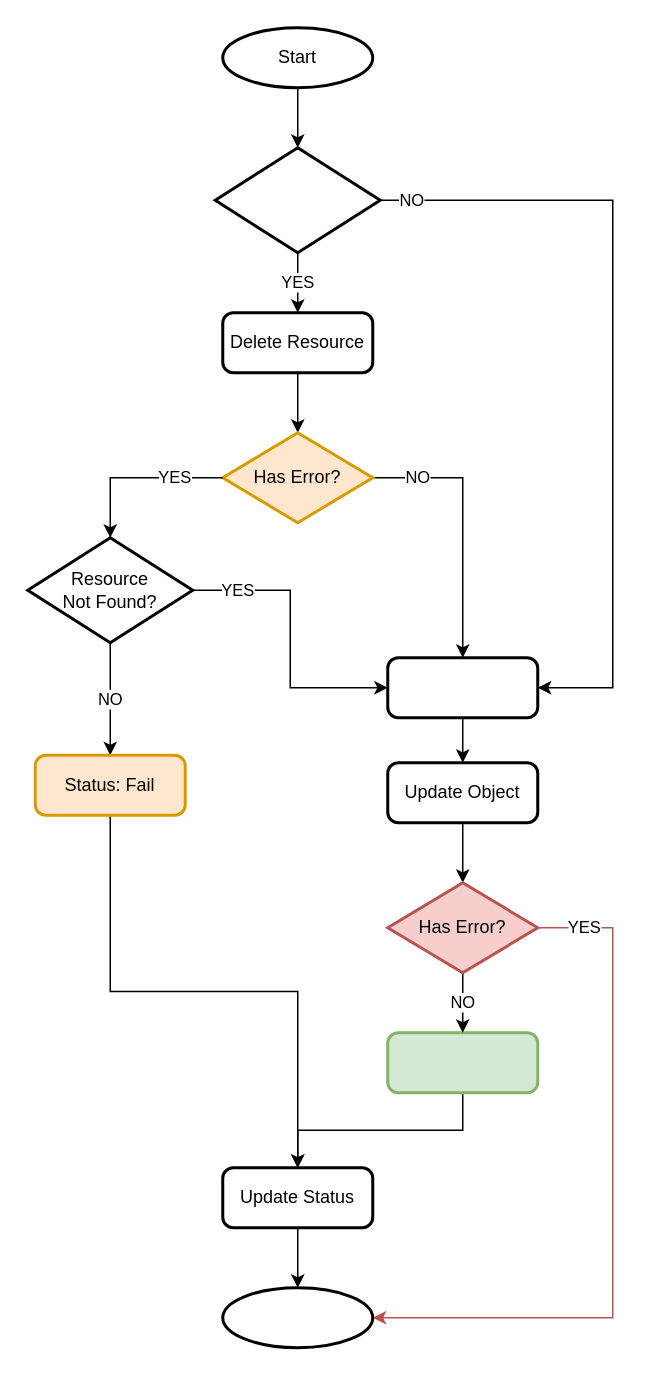
Some shapes in this 651 by 1374 pixel diagram are drawn without their labels. Here are the shapes that lost their labels. From the top down, the centre of each, then its label:
At pixel 297 200: "Has Delete Policy?".
At pixel 462 687: "Remove Finalizer".
At pixel 462 1062: "Status: Deleting".
At pixel 297 1317: "End".
